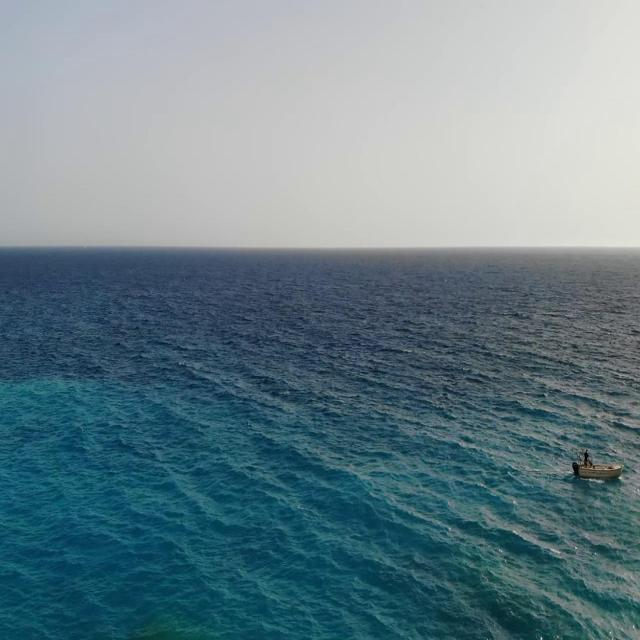boat: (570, 449, 597, 481)
